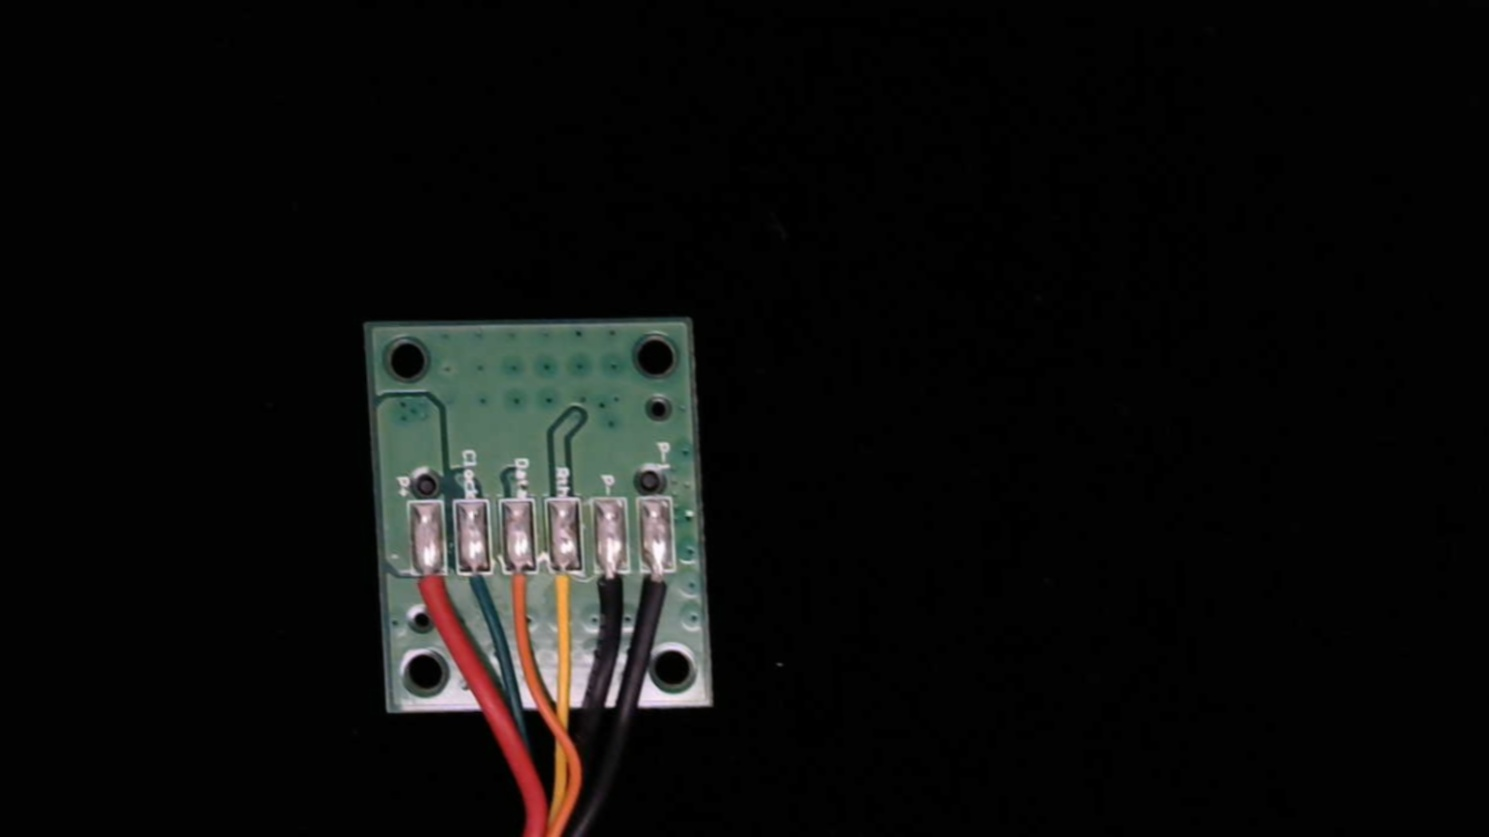Black: (593, 553, 634, 623)
Black1: (639, 548, 682, 628)
Green: (459, 555, 493, 623)
Orange: (501, 553, 540, 626)
Red: (409, 554, 453, 636)
Yellow: (545, 552, 589, 640)
